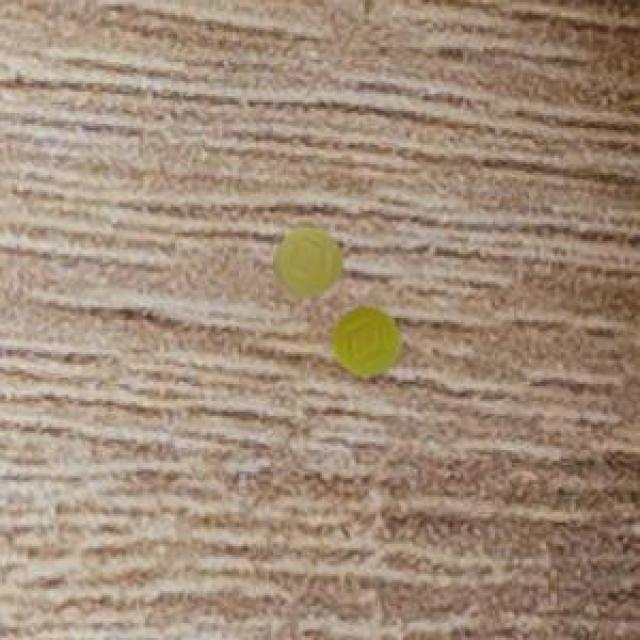Decolgen: (268, 217, 356, 301), (324, 305, 412, 386)
